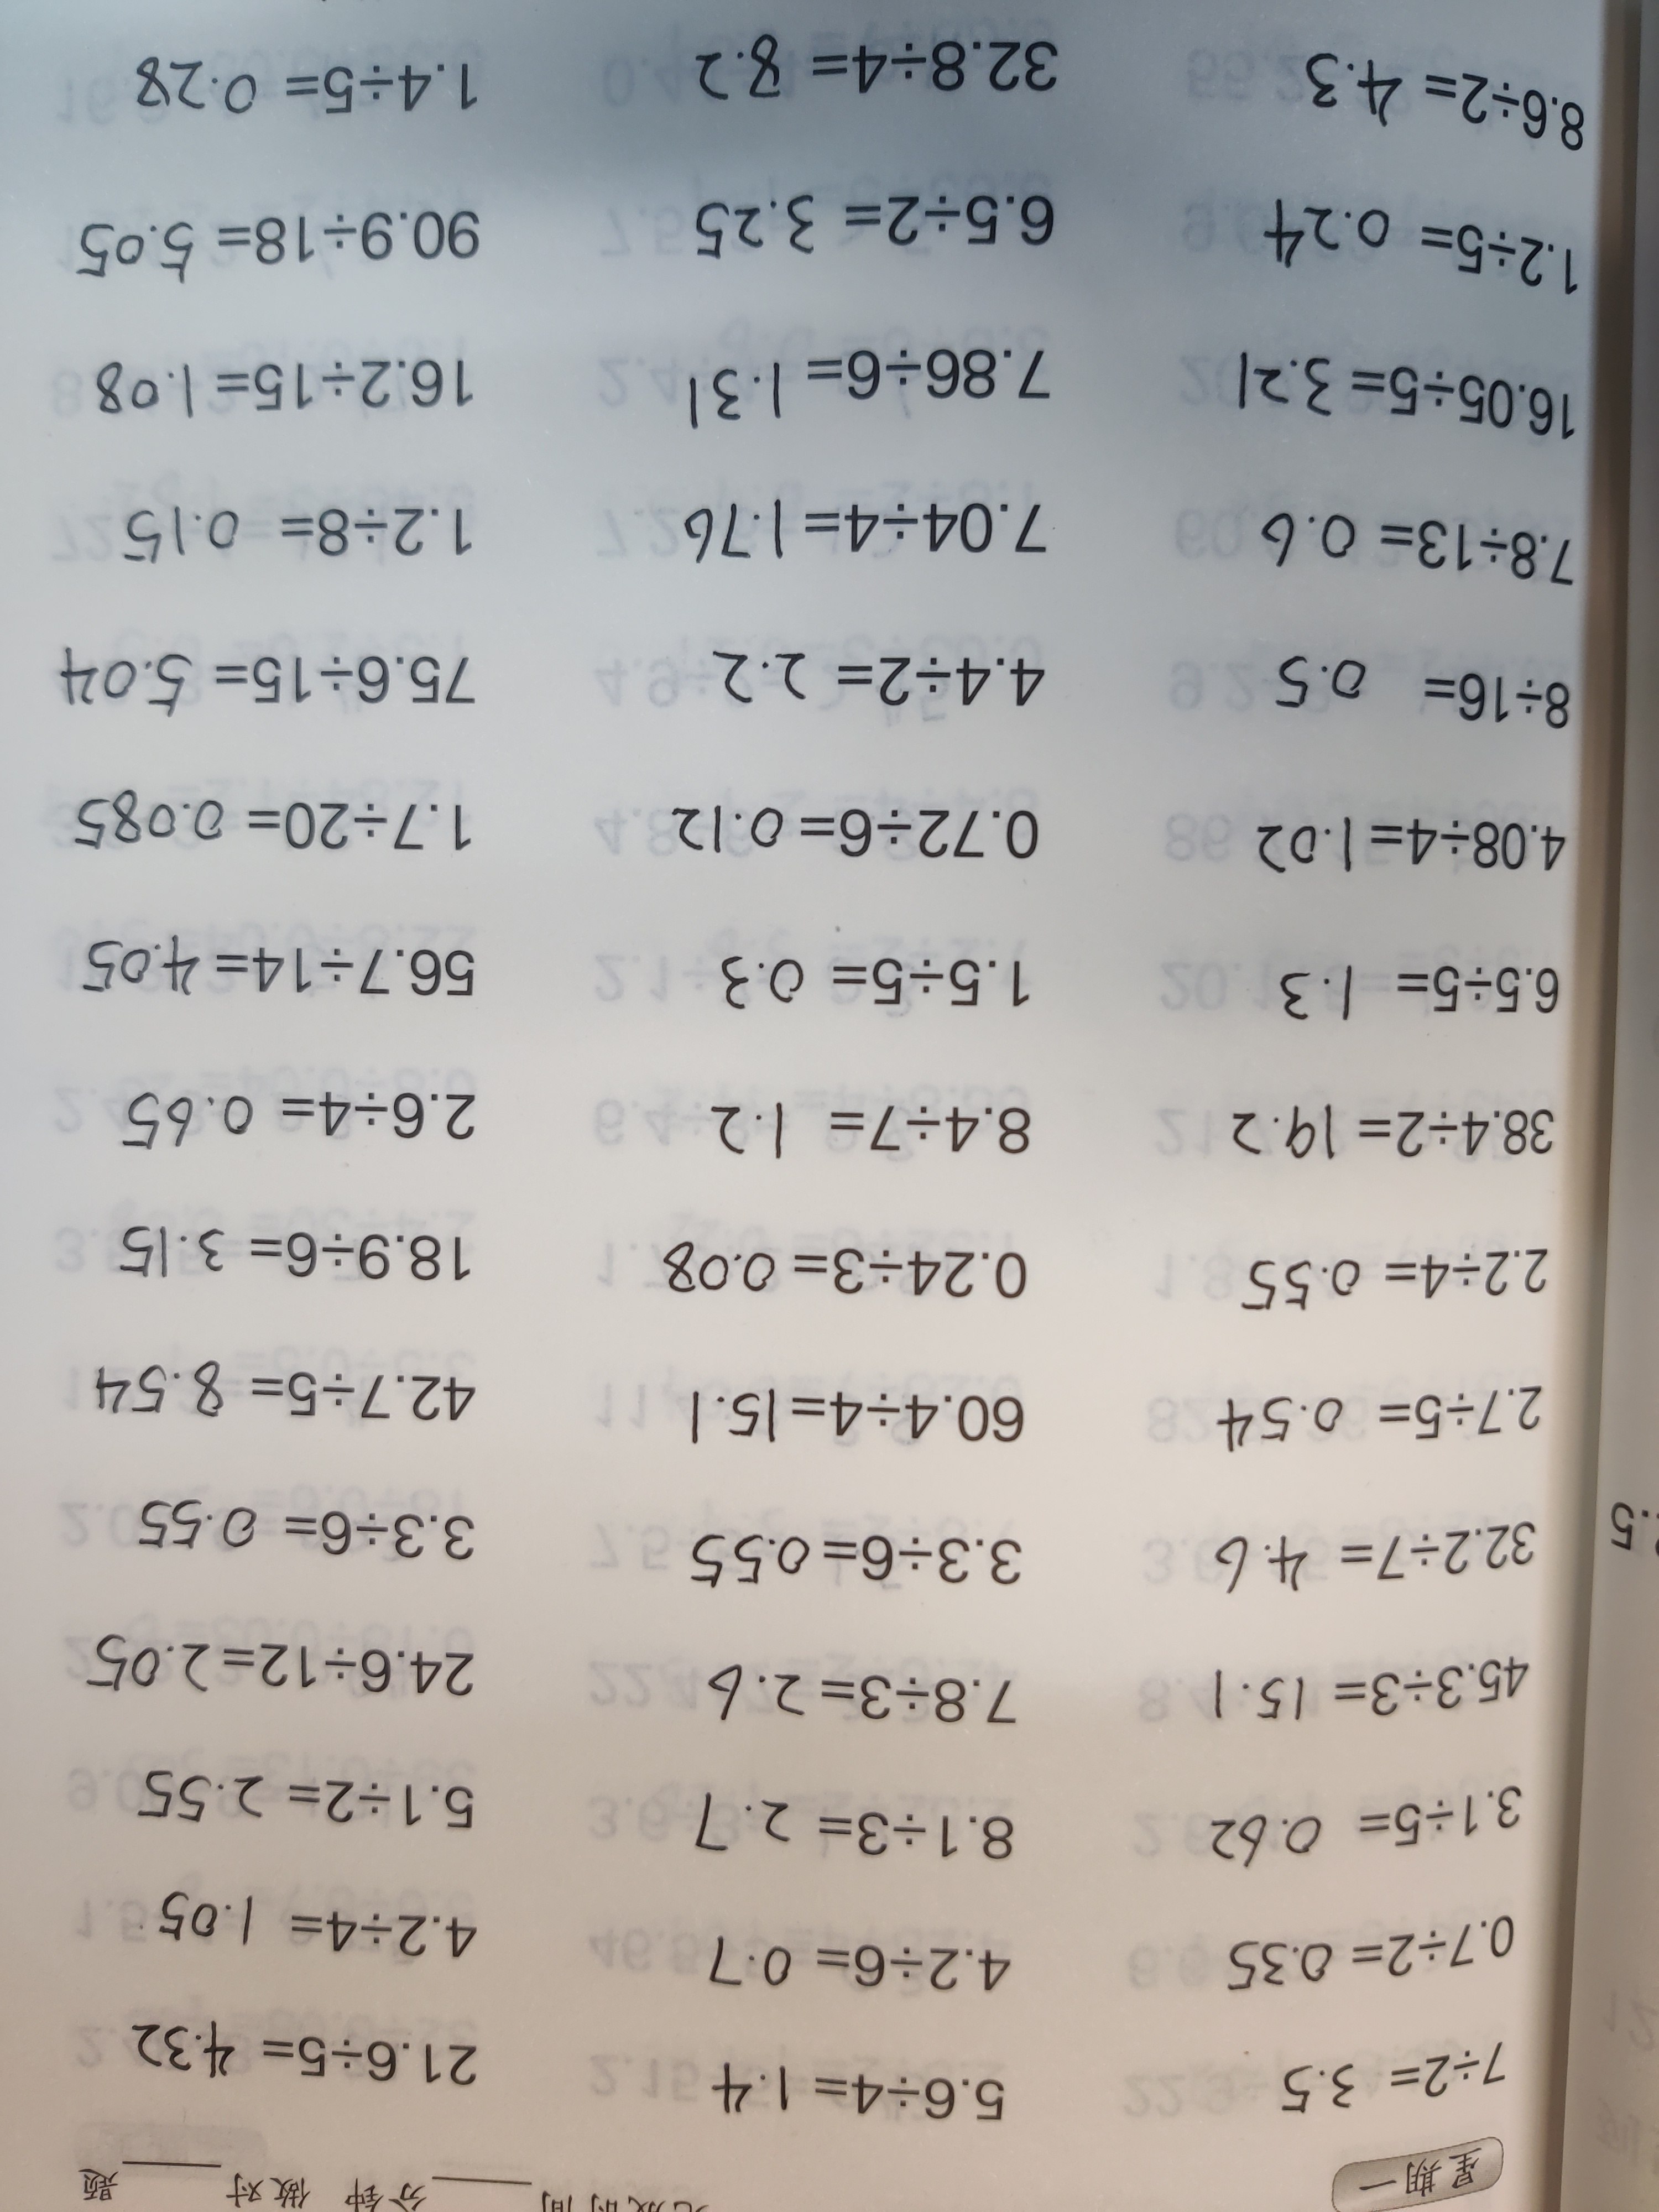equation: (669, 329, 1077, 442), (87, 329, 488, 442), (662, 472, 1066, 582), (680, 17, 1068, 131), (1251, 188, 1593, 315), (641, 784, 1053, 887), (1211, 340, 1591, 449), (1274, 37, 1598, 164), (75, 1616, 479, 1717), (52, 639, 491, 732), (129, 1871, 491, 1982), (115, 2005, 490, 2111), (87, 1334, 484, 1433), (56, 777, 491, 866), (73, 921, 498, 1012), (108, 1066, 488, 1167), (680, 172, 1065, 272), (669, 1770, 1023, 1878), (648, 1221, 1047, 1315), (99, 1207, 495, 1301), (122, 1745, 488, 1846), (122, 1477, 488, 1578), (75, 202, 498, 289), (1251, 644, 1593, 751), (131, 44, 491, 143), (688, 1069, 1068, 1163), (1225, 796, 1584, 895), (1195, 1087, 1560, 1183), (1244, 500, 1586, 601), (105, 479, 491, 568), (687, 1515, 1040, 1611), (694, 937, 1049, 1031), (706, 631, 1053, 725), (1199, 1508, 1553, 1599), (667, 1371, 1023, 1460), (687, 1909, 1014, 2005), (1248, 934, 1572, 1029), (1213, 1902, 1518, 2003), (1201, 1649, 1553, 1737), (697, 2043, 1021, 2137), (1187, 1780, 1539, 1864), (1223, 1231, 1560, 1318), (697, 1648, 1026, 1731), (1211, 1376, 1560, 1453), (1256, 2041, 1523, 2130)
